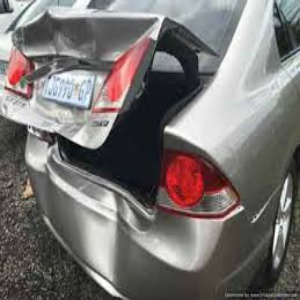bonnet: (15, 10, 166, 143)
bumper: (61, 217, 195, 297)
tail_lights: (143, 144, 235, 218)
